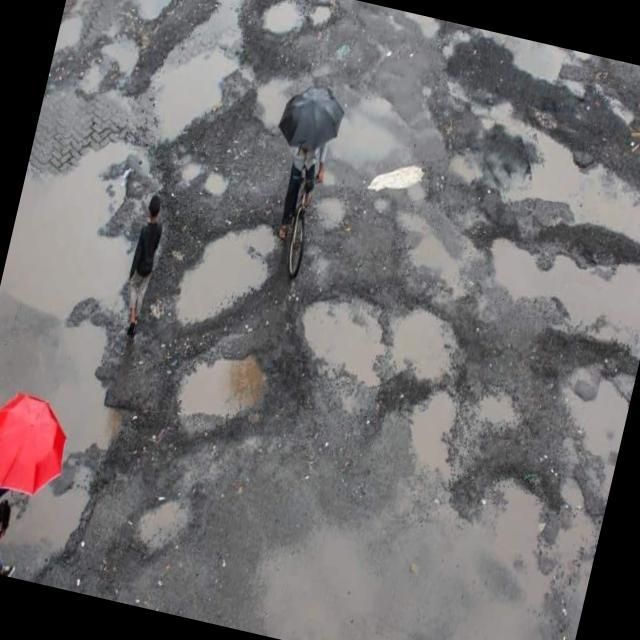Pothole: (0, 107, 196, 596), (468, 210, 640, 359), (497, 129, 640, 260), (166, 204, 288, 342), (281, 276, 403, 408), (140, 8, 254, 146), (536, 341, 640, 477), (169, 331, 286, 442), (386, 286, 476, 396), (475, 457, 557, 558), (488, 34, 595, 104), (400, 378, 470, 482), (94, 17, 150, 89), (245, 69, 304, 133), (469, 372, 526, 437), (479, 88, 526, 140), (310, 183, 352, 233), (445, 144, 488, 188), (260, 0, 307, 40), (599, 84, 640, 129), (194, 164, 233, 202), (301, 0, 345, 33), (401, 12, 440, 42)
